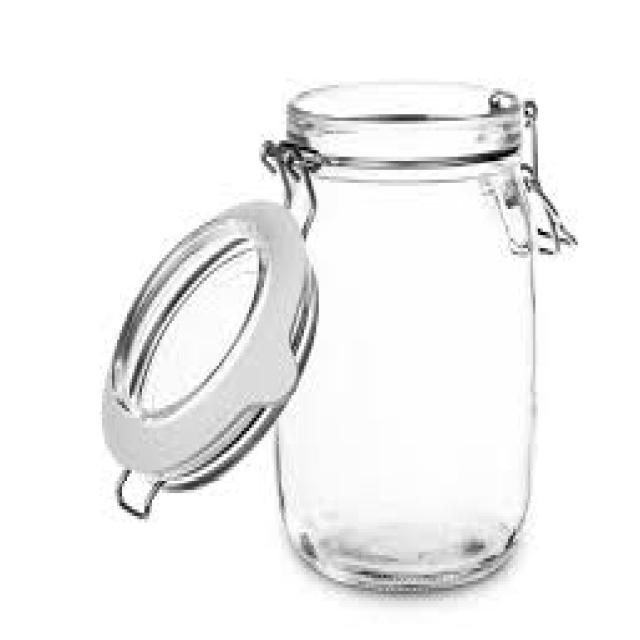glass: (279, 82, 530, 591)
